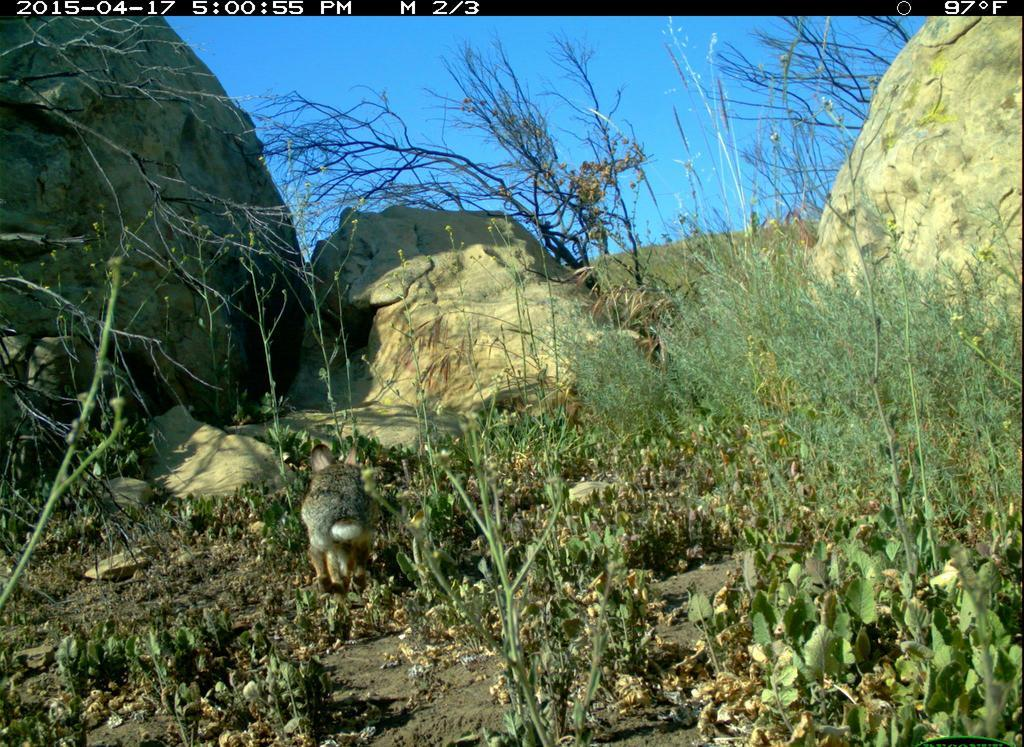rabbit: (299, 440, 391, 603)
